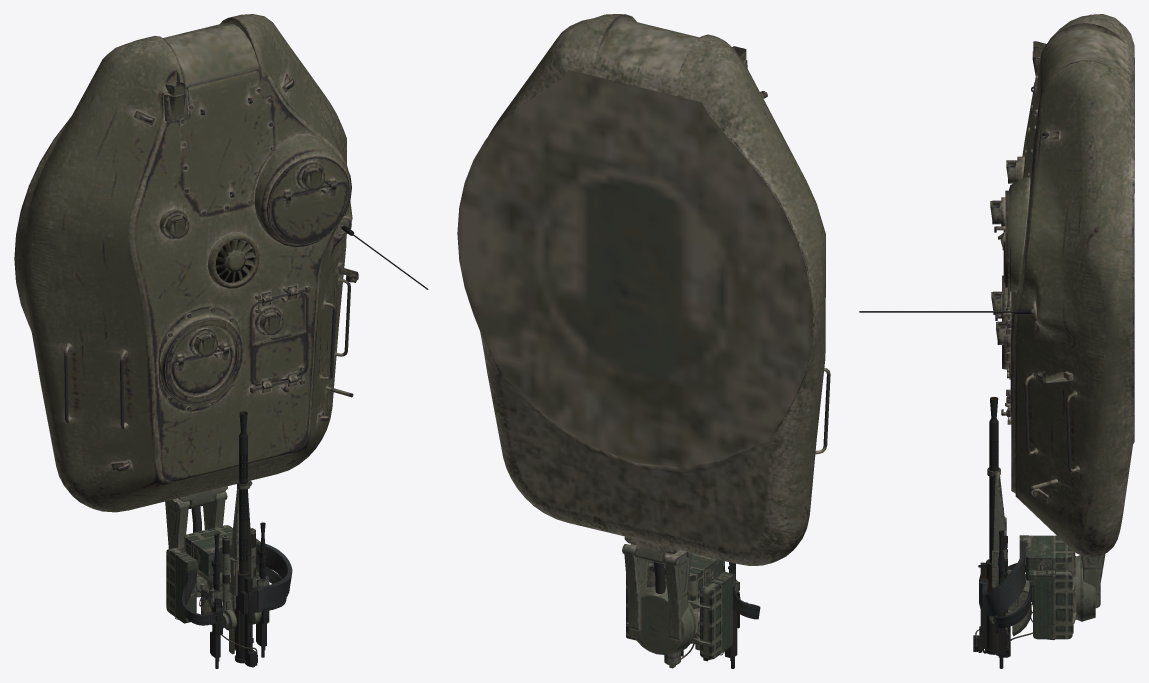
The model's file is Turret_01.glb.
3 renders of one model, left to right at view 1: azimuth 30°, elevation 25°; view 2: azimuth 150°, elevation 25°; view 3: azimuth 270°, elevation 25°, orthographic. The views are drawn at different scales.
Visible parts, largest first — view 1: set_0_group_0; view 2: set_0_group_0; view 3: set_0_group_0.
Boxes of the visible parts, x1=… form: set_0_group_0: x1=14, y1=14, x2=428, y2=668; set_0_group_0: x1=457, y1=14, x2=830, y2=668; set_0_group_0: x1=859, y1=14, x2=1134, y2=668.
Bounding box in the file's own units: 2.7 × 4.84 × 1.97.
1 material, 1 textured.
